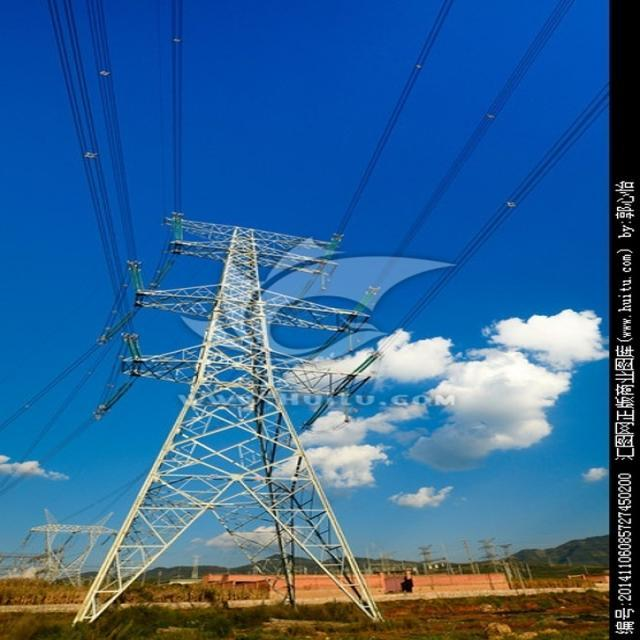non-critical vegetation: (81, 210, 382, 630)
